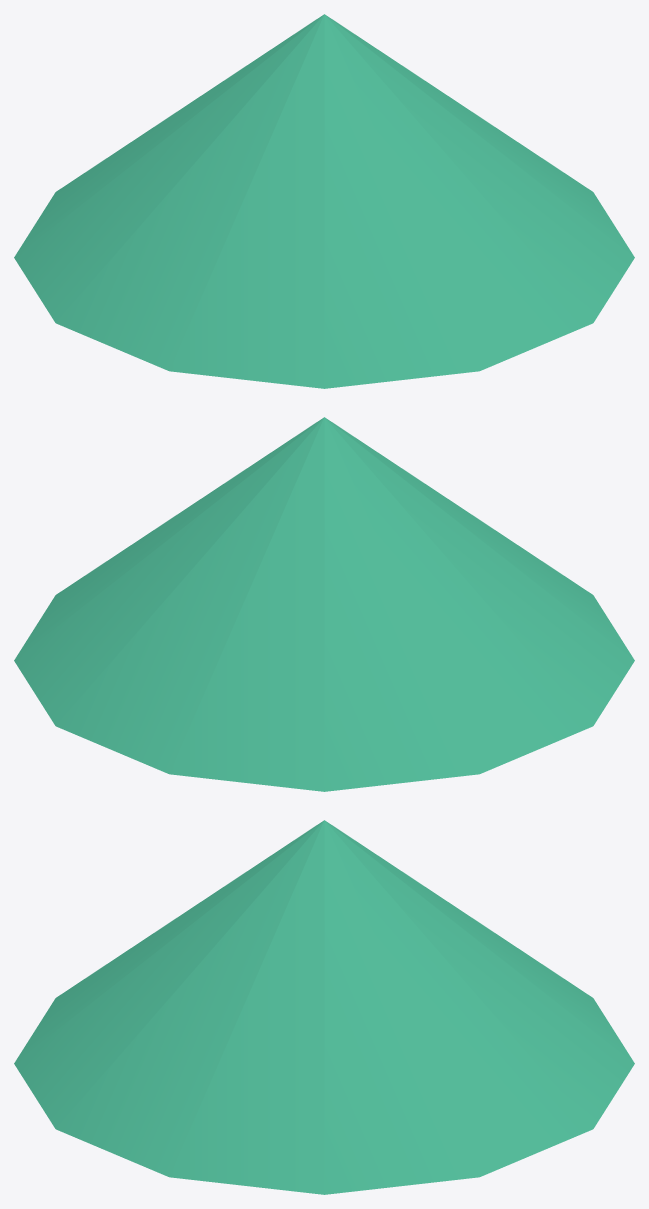
The picture shows the model from 3 angles, top to bottom: view 1: azimuth 30°, elevation 25°; view 2: azimuth 150°, elevation 25°; view 3: azimuth 270°, elevation 25°; orthographic projection.
Bounding box in the file's own units: 1.81 × 0.7833 × 1.81.
